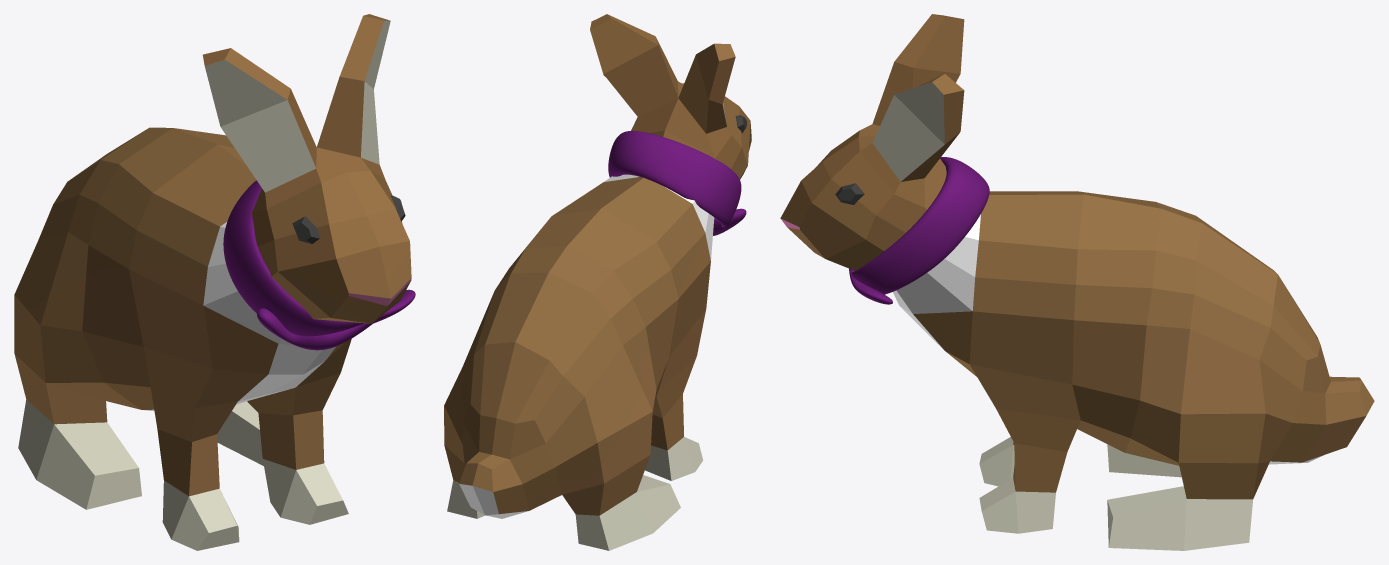
Rendered from bunny young.fbx.
3 renders of one model, left to right at view 1: azimuth 30°, elevation 25°; view 2: azimuth 150°, elevation 25°; view 3: azimuth 270°, elevation 25°, orthographic. The views are drawn at different scales.
Visible parts, largest first — view 1: Plane.001, Cube.011; view 2: Plane.001, Cube.011; view 3: Plane.001, Cube.011.
Boxes of the visible parts, x1,y1,x2,y2 form: Plane.001: (14,14,411,550); Cube.011: (223,180,415,350); Plane.001: (444,14,751,550); Cube.011: (608,130,746,235); Plane.001: (780,14,1374,550); Cube.011: (849,157,989,304).
Bounding box in the file's own units: 98.62 × 197 × 234.
2 materials, 1 textured.
